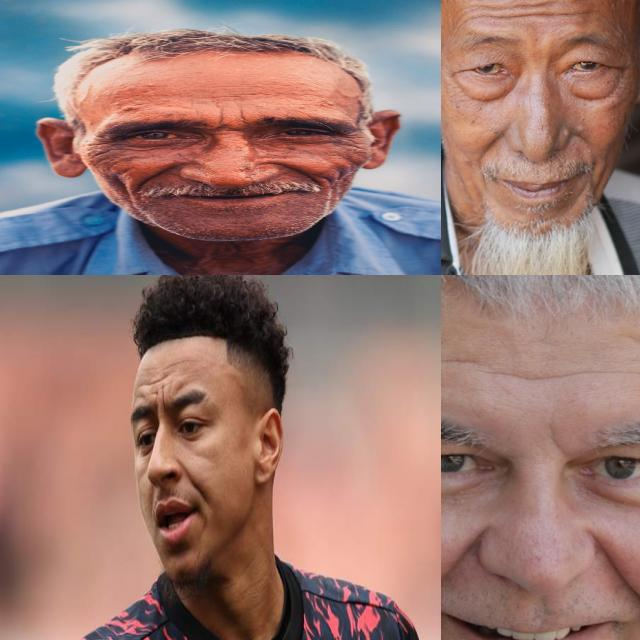crows_feet: (602, 52, 626, 84), (82, 138, 121, 156), (446, 60, 470, 78), (340, 132, 362, 150)
forehead: (495, 360, 583, 400), (441, 349, 482, 378), (529, 0, 587, 19), (472, 0, 521, 21), (149, 367, 168, 394), (627, 329, 640, 355), (172, 356, 196, 369)
frown_line: (543, 421, 571, 461), (212, 106, 248, 130), (155, 394, 166, 410)
gummy_smile: (596, 539, 640, 605), (441, 531, 480, 597), (122, 164, 176, 187), (267, 162, 329, 182), (478, 124, 510, 156), (178, 460, 202, 497)
masseter: (106, 174, 140, 203), (331, 164, 350, 187)
